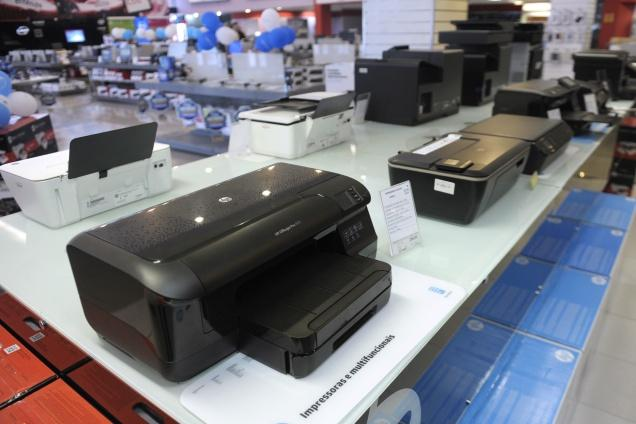Printer: (65, 160, 392, 383), (0, 120, 173, 229), (386, 130, 531, 226)
